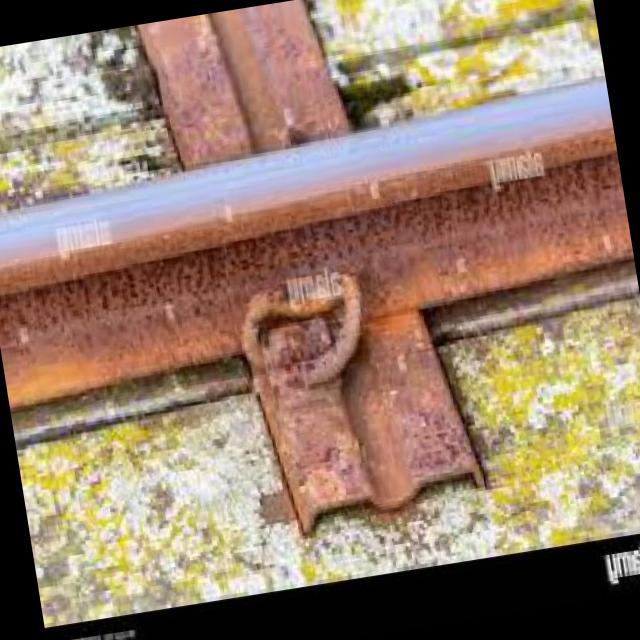defective: (0, 28, 640, 512)
